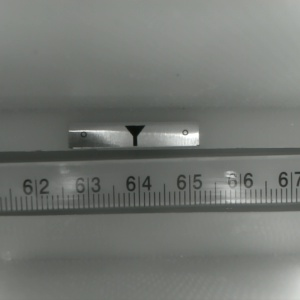2: (38, 178, 49, 194)
3: (90, 177, 100, 193), (226, 172, 236, 187)
4: (141, 176, 152, 191)
5: (192, 175, 202, 190)
6: (125, 175, 136, 192), (21, 178, 32, 195), (175, 174, 186, 190), (277, 171, 288, 187), (242, 172, 253, 187), (74, 178, 85, 193)
7: (294, 171, 300, 187)
finger: (122, 125, 145, 146)
